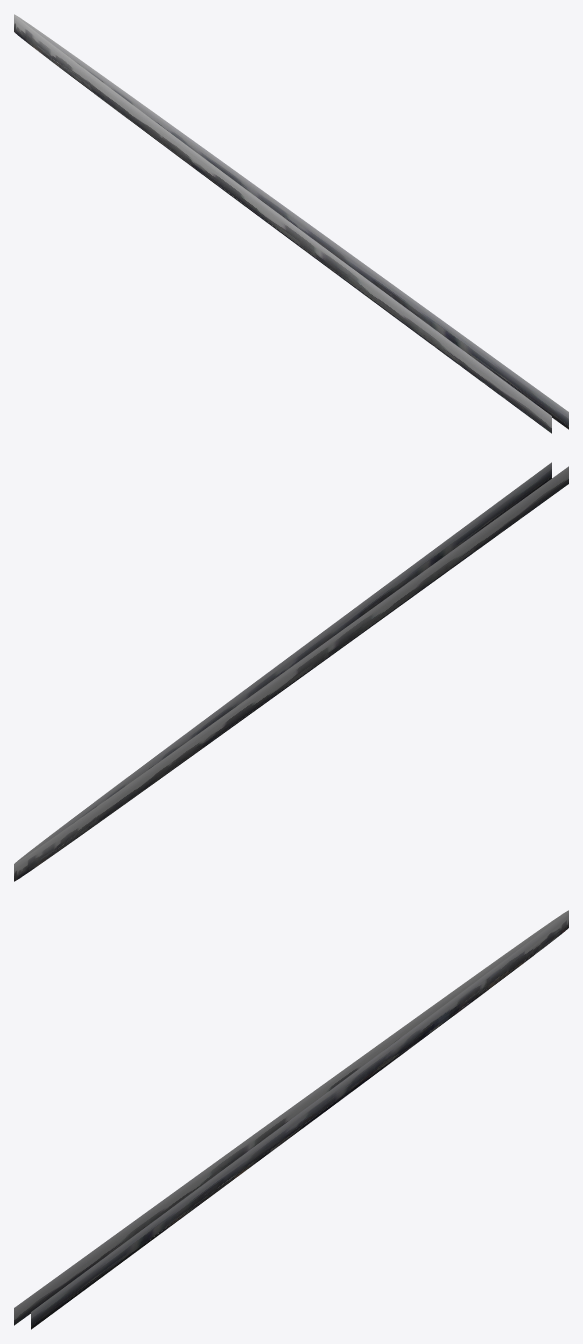
The model's file is skyline.gltf.
3 renders of one model, top to bottom at view 1: azimuth 30°, elevation 25°; view 2: azimuth 150°, elevation 25°; view 3: azimuth 330°, elevation 25°, orthographic.
Visible parts, largest first — view 1: skyline; view 2: skyline; view 3: skyline.
Part boxes in pixels (<box>): skyline: <box>14,14,568,433</box>; skyline: <box>14,462,568,881</box>; skyline: <box>14,910,568,1329</box>.
Size of the model in its own units: 1 by 1 by 56.
Materials: 1 (1 with a texture image).
